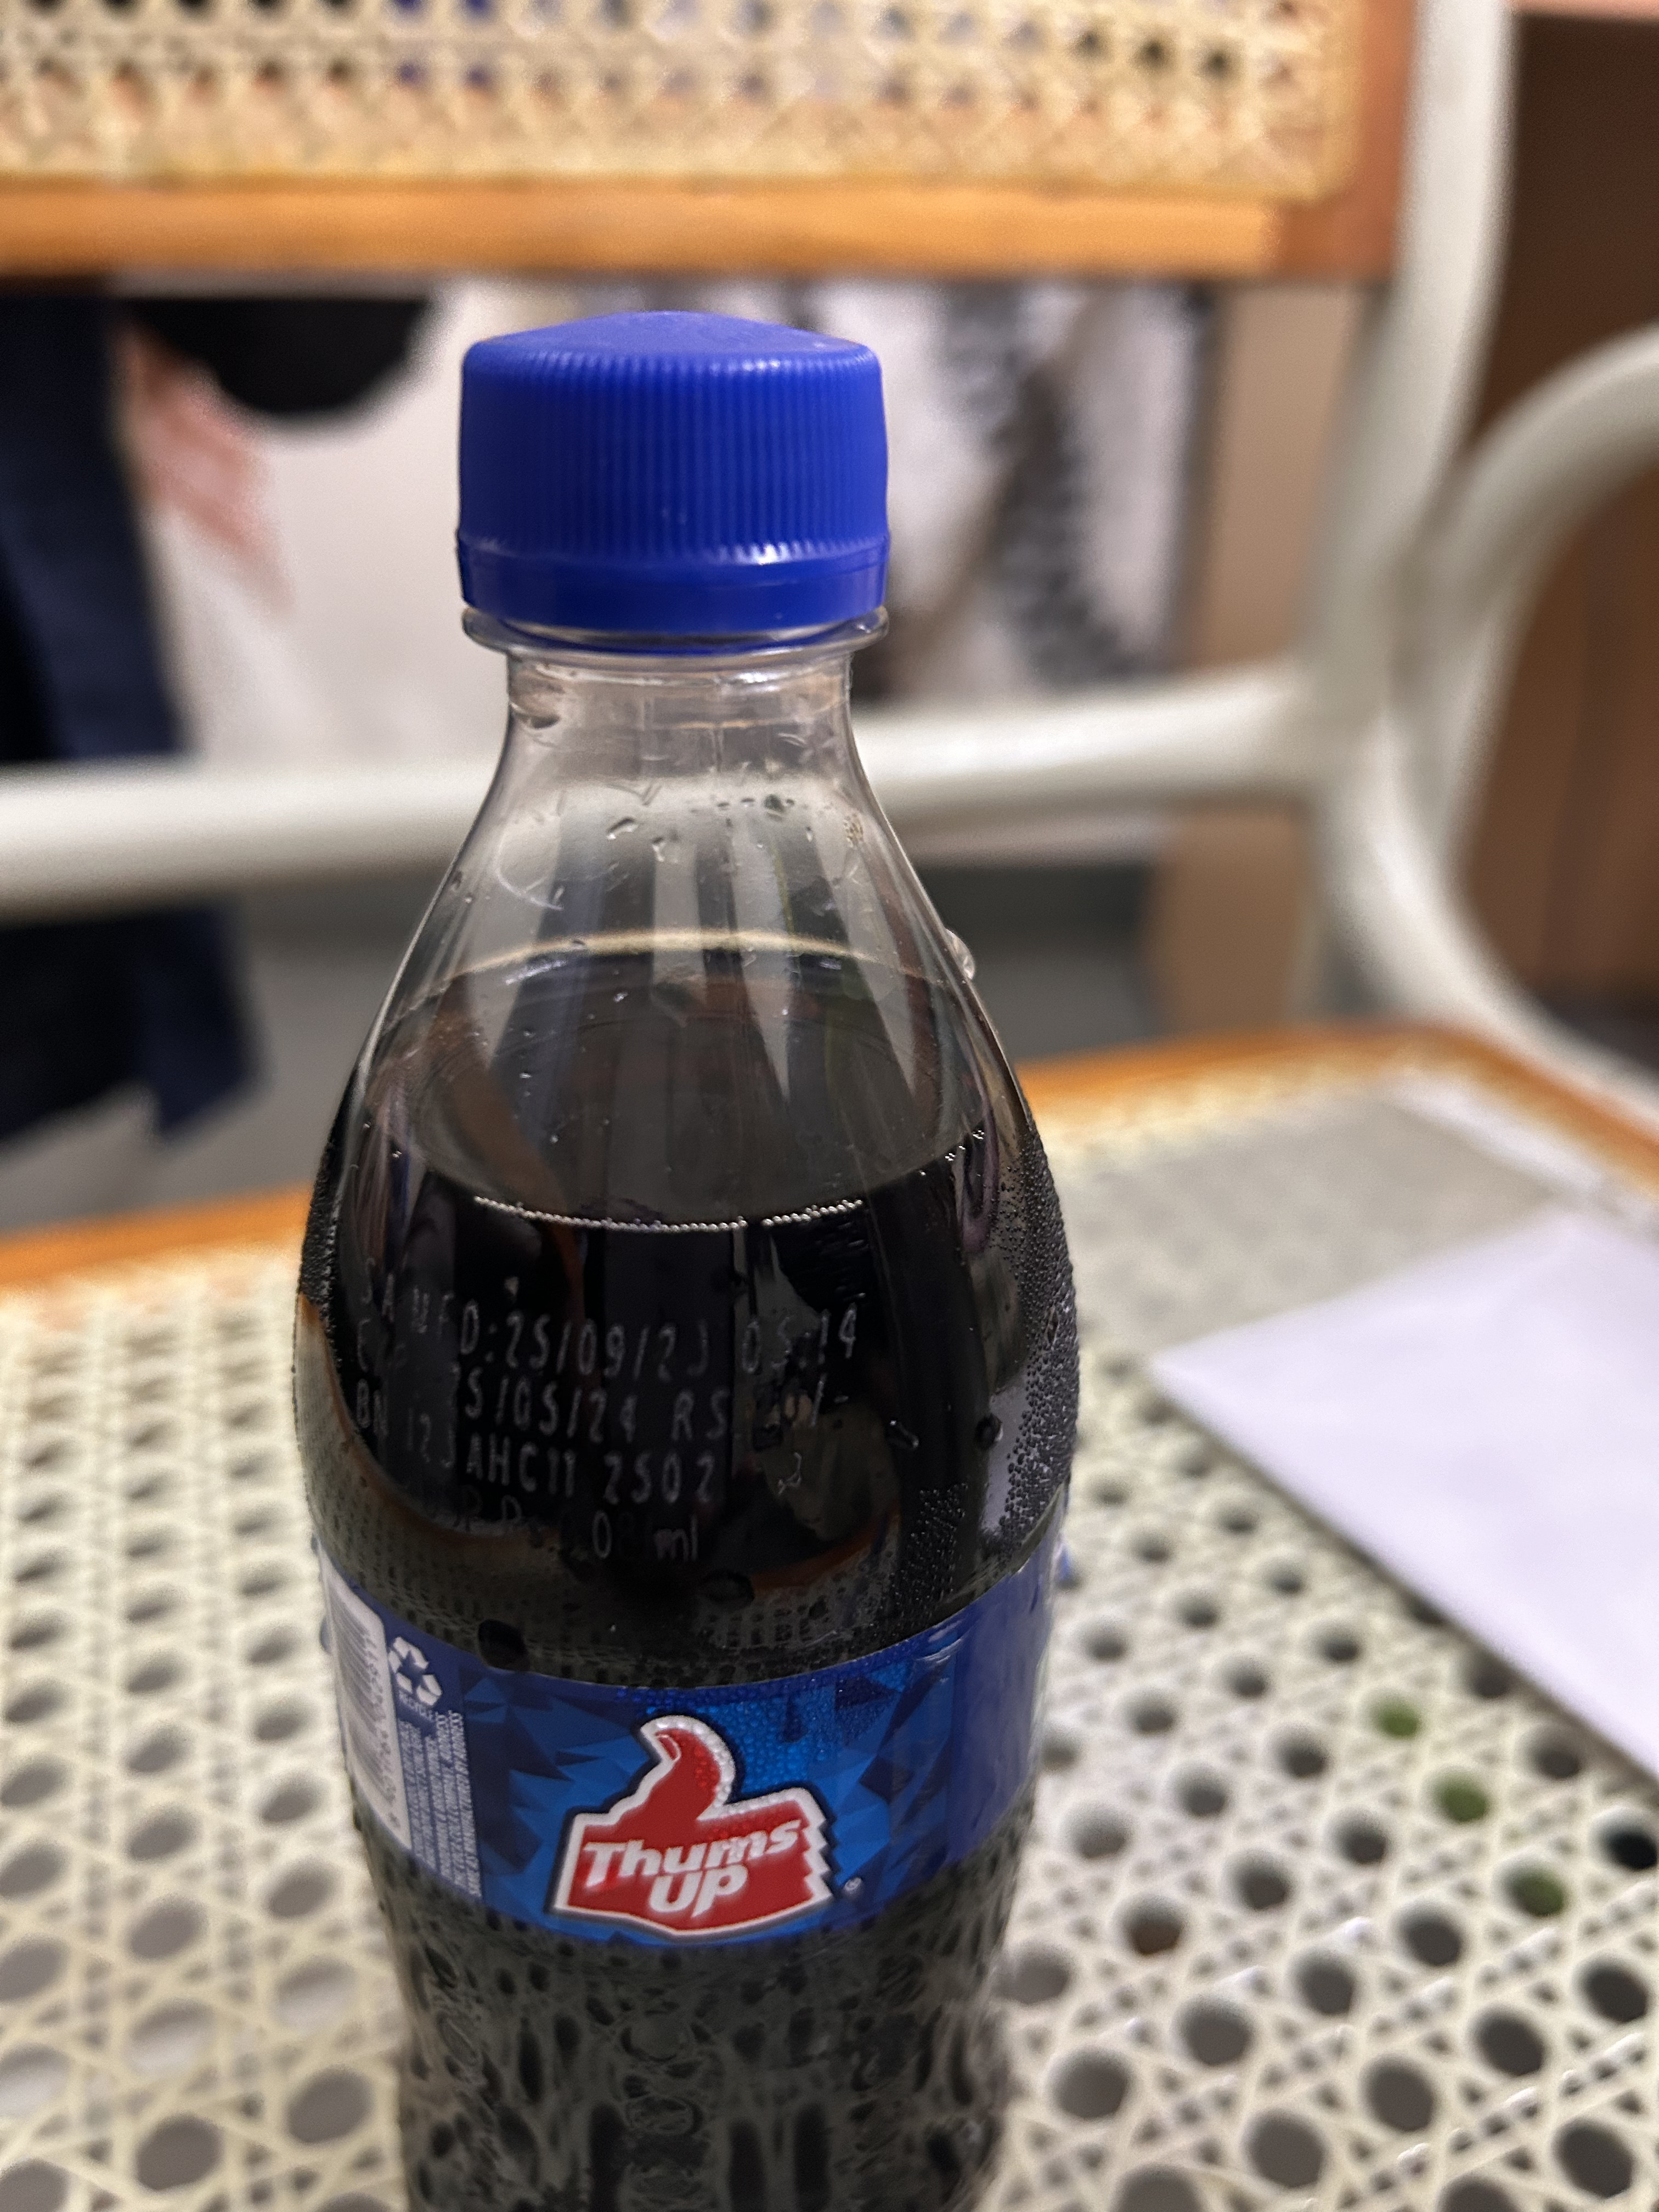sealstable: (408, 270, 922, 773)
